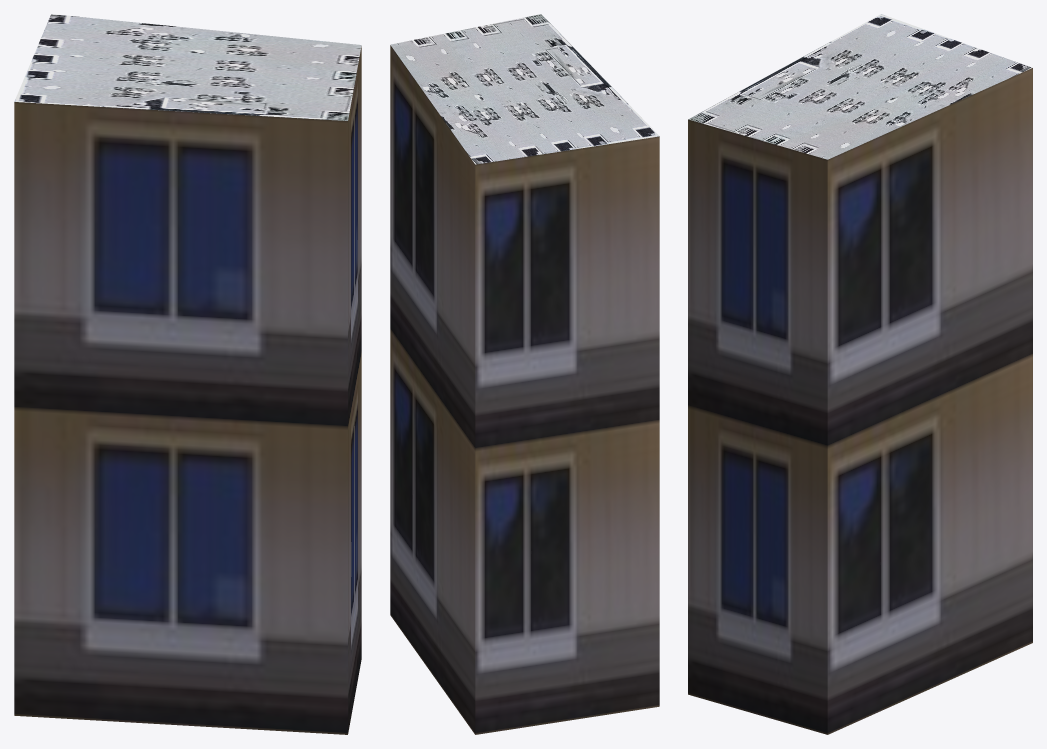
Rendered from ResTex__4340.fbx.
3 views of the same model, side by side, from view 1: azimuth 30°, elevation 25°; view 2: azimuth 150°, elevation 25°; view 3: azimuth 270°, elevation 25° (orthographic). The views are drawn at different scales.
Parts seen in each view (by area): view 1: CityEngineMaterial_5_m, CityEngineMaterial_m; view 2: CityEngineMaterial_5_m, CityEngineMaterial_m; view 3: CityEngineMaterial_5_m, CityEngineMaterial_m.
Part boxes in pixels (left/top/right/bottom): CityEngineMaterial_5_m: left=14, top=46, right=361, bottom=734; CityEngineMaterial_m: left=14, top=14, right=361, bottom=120; CityEngineMaterial_5_m: left=390, top=45, right=659, bottom=734; CityEngineMaterial_m: left=390, top=14, right=659, bottom=164; CityEngineMaterial_5_m: left=688, top=68, right=1032, bottom=734; CityEngineMaterial_m: left=688, top=14, right=1032, bottom=159.
Bounding box in the file's own units: 3.26 × 6 × 3.26.
Materials: 2 (2 with a texture image).
